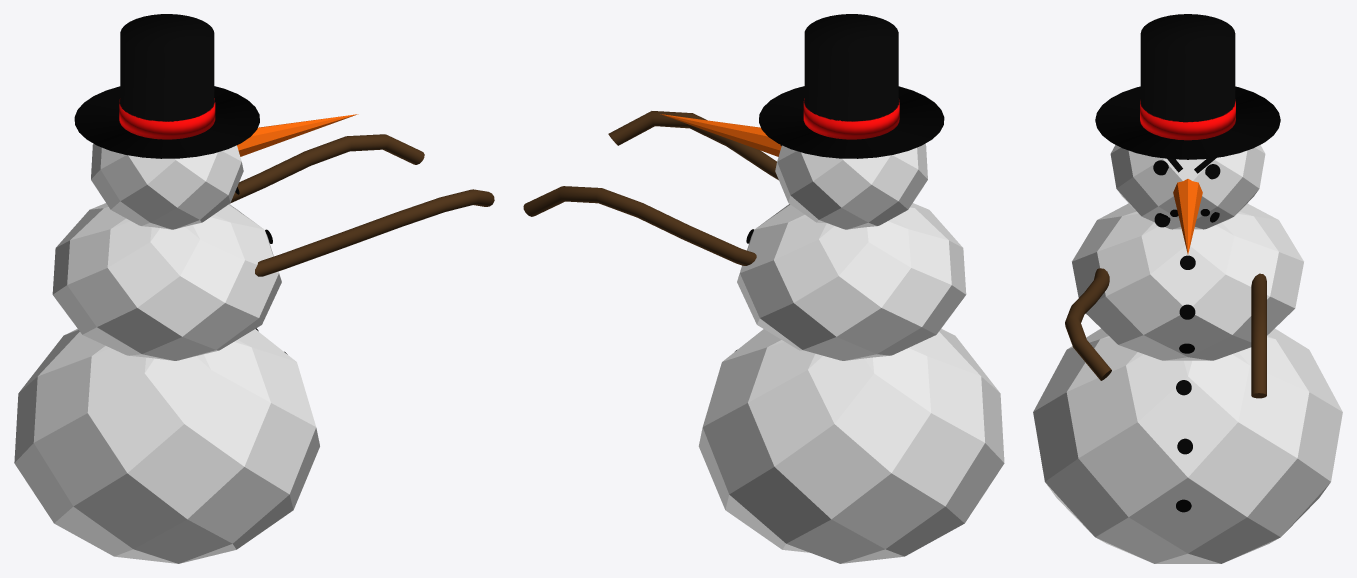
The model's file is MuñecoNieve.fbx.
3 views of the same model, side by side, from view 1: azimuth 30°, elevation 25°; view 2: azimuth 150°, elevation 25°; view 3: azimuth 270°, elevation 25° (orthographic).
Visible parts, largest first — view 1: MuñecoNieve; view 2: MuñecoNieve; view 3: MuñecoNieve.
Part boxes in pixels (<box>): MuñecoNieve: <box>14,14,494,563</box>; MuñecoNieve: <box>523,14,1004,563</box>; MuñecoNieve: <box>1033,14,1342,563</box>.
Size of the model in its own units: 3.12 by 3.6 by 1.96.
1 material, 1 textured.
